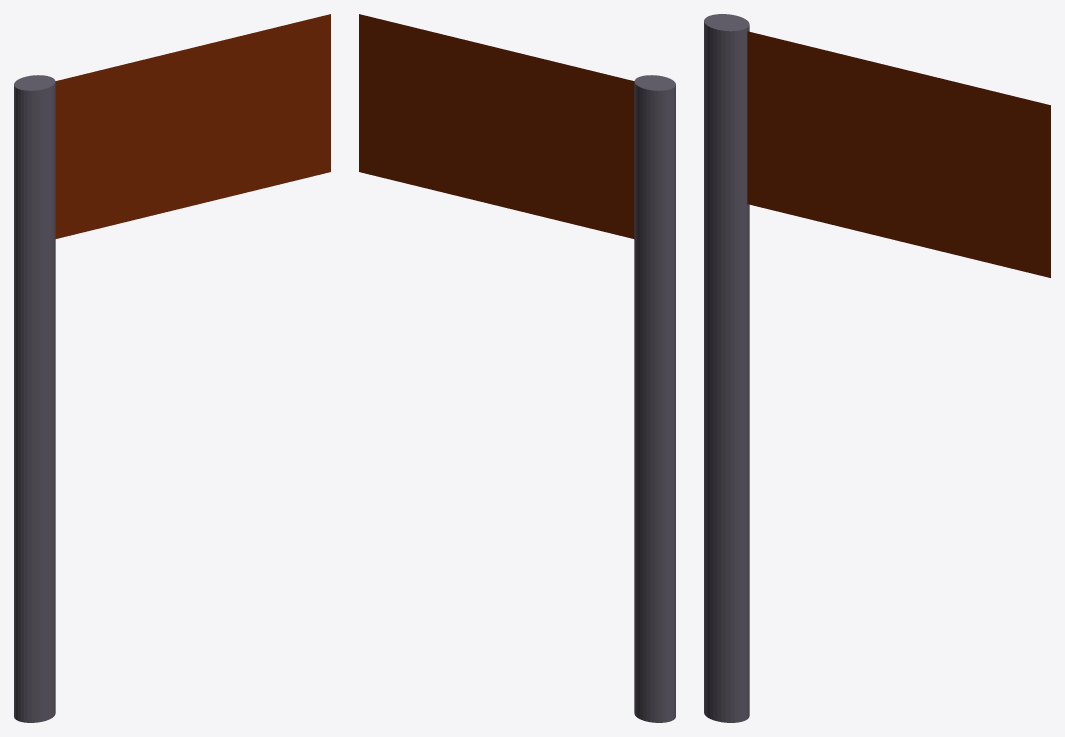
File: Flag.glb
3 renders of one model, left to right at view 1: azimuth 30°, elevation 25°; view 2: azimuth 150°, elevation 25°; view 3: azimuth 330°, elevation 25°, orthographic. The views are drawn at different scales.
Parts seen in each view (by area): view 1: Plane, Cylinder; view 2: Plane, Cylinder; view 3: Plane, Cylinder.
Part boxes in pixels (x1,y1,x2,y2): Plane: (55,14,330,238); Cylinder: (14,75,55,722); Plane: (359,14,634,238); Cylinder: (634,75,675,722); Plane: (747,31,1050,277); Cylinder: (704,14,749,722).
Size of the model in its own units: 2.82 by 5.41 by 0.2704.
